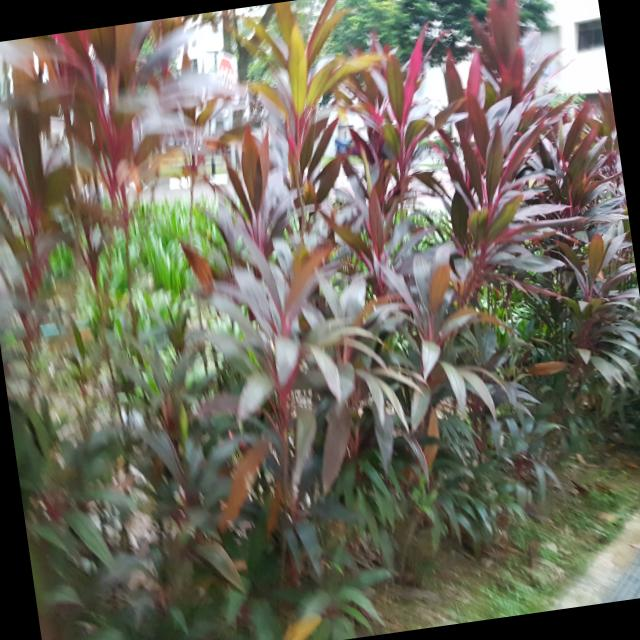Ti: (172, 183, 412, 498), (407, 21, 596, 324), (0, 15, 214, 215)
